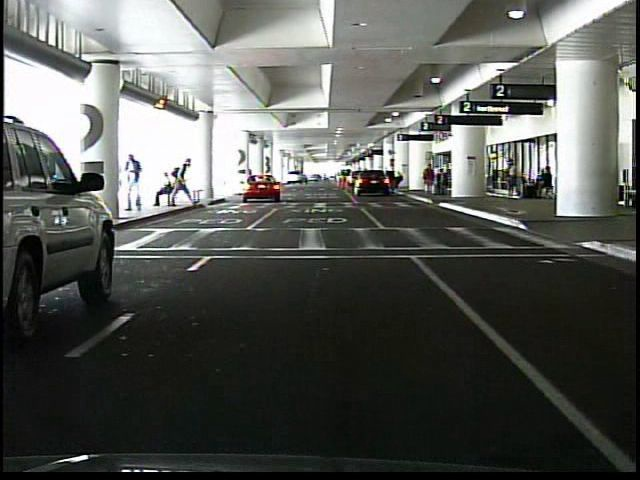person: (167, 159, 199, 208), (125, 153, 143, 211), (152, 171, 179, 208), (421, 163, 437, 197), (506, 158, 519, 199), (442, 166, 443, 194)
